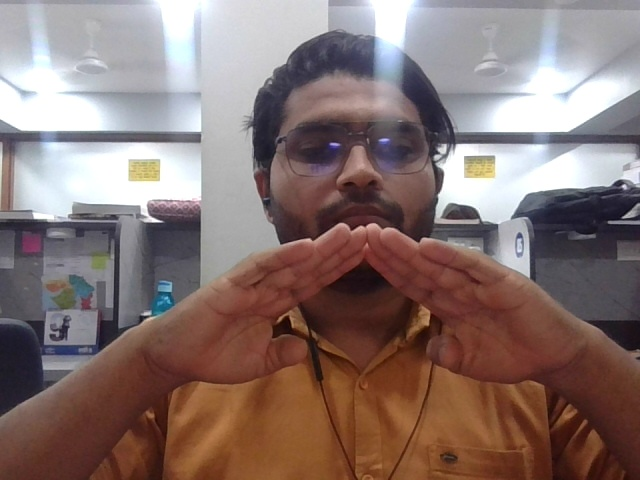ThankYou: (175, 223, 553, 377)
